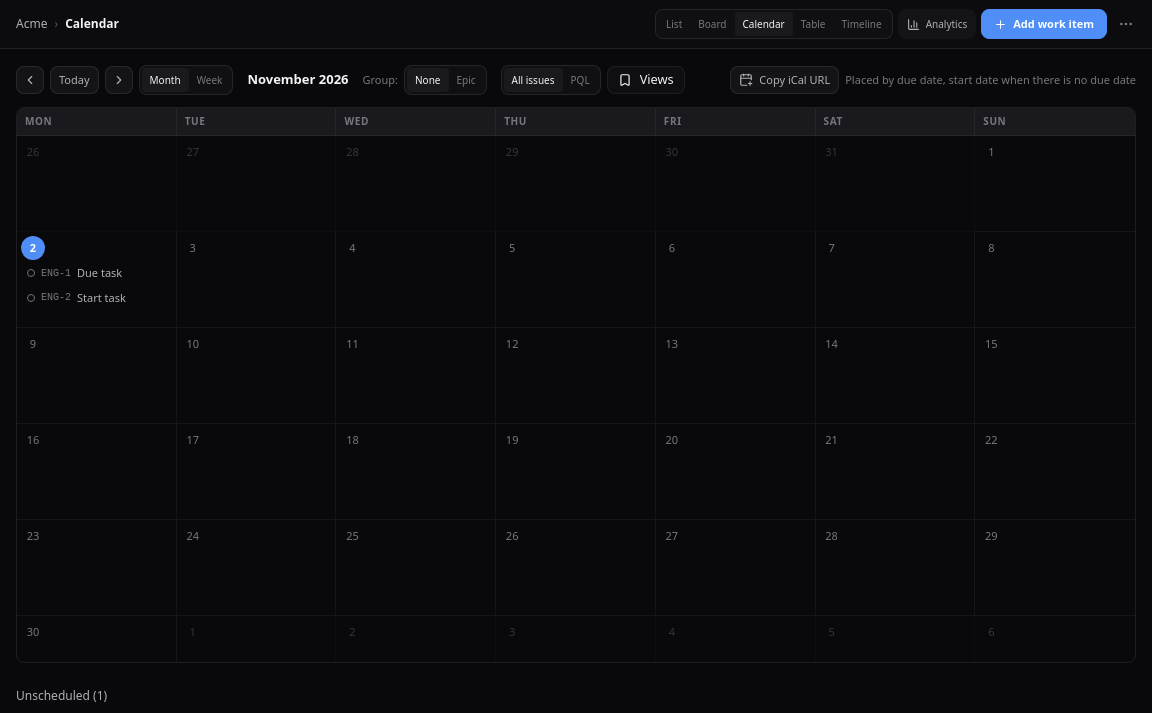
it: calendar saved views (C110T1) › a view whose query fails its probe surfaces the error with the displayed set untouched
Expected: the text "Due task" is shown, [77,265,122,282]
Expected: the text "Start task" is shown, [77,290,126,306]
Click the button with aria-label "Saved views". click: (646, 80)
box: [607,66,685,94]
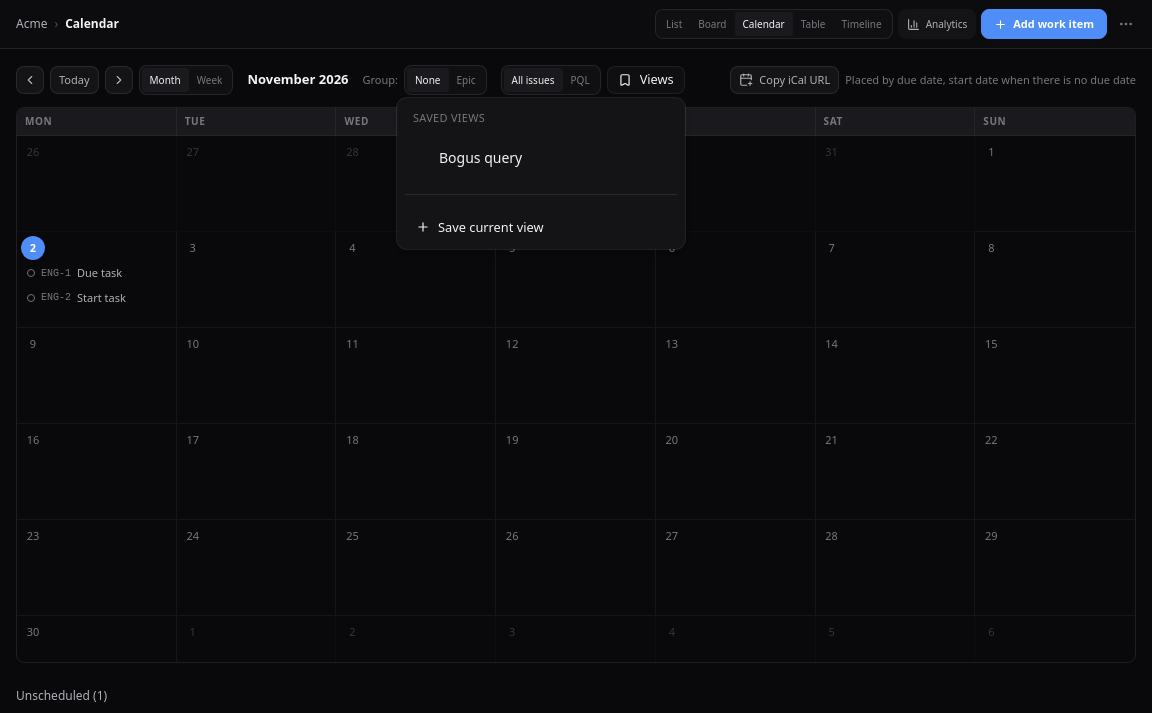
Expected: the button "Save current view" is shown, [405,213,677,241]
Click the button titled "Apply view “Bogus query”". click: (481, 158)
box: [409,142,553,174]
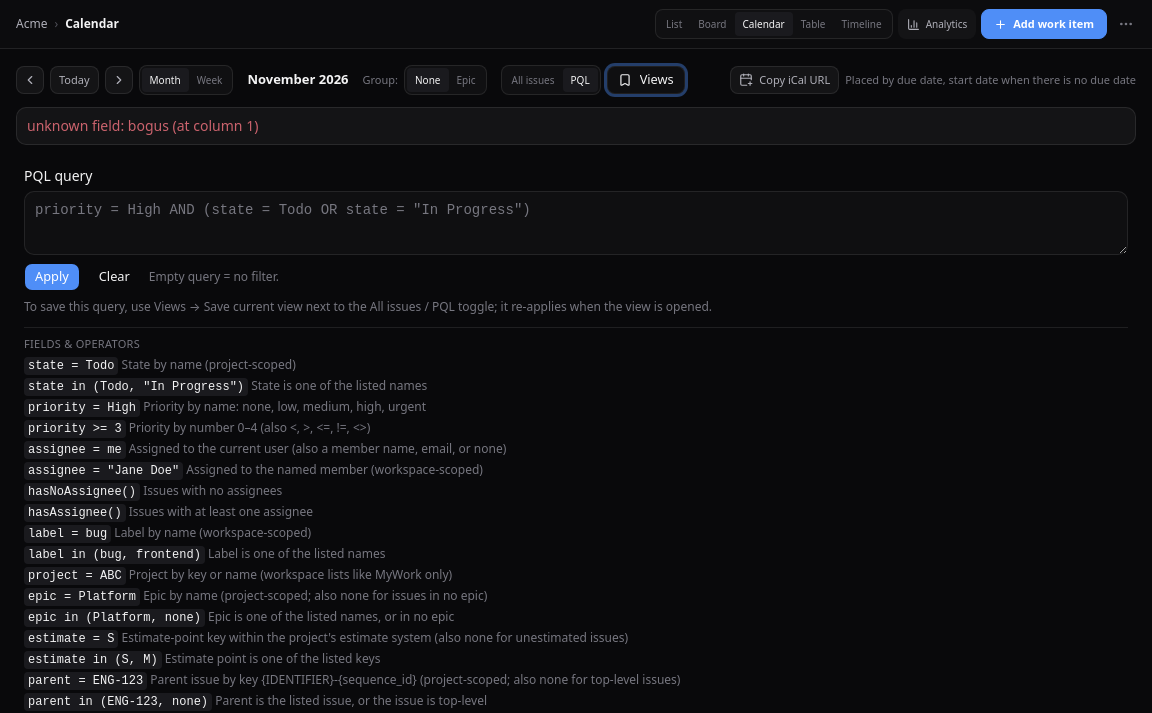
Expected: the message shows "unknown field: bogus", [27,116,258,135]
Expected: the text box labelled "PQL query" is shown, [24,191,1128,255]
